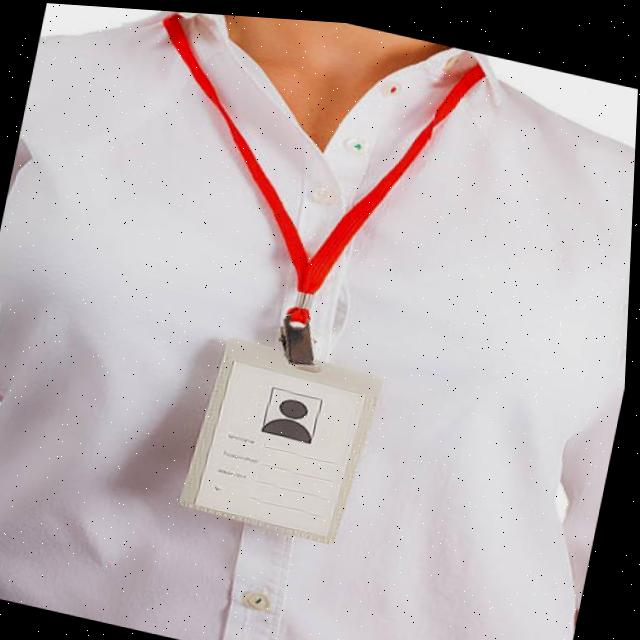id_card: (64, 4, 523, 574)
